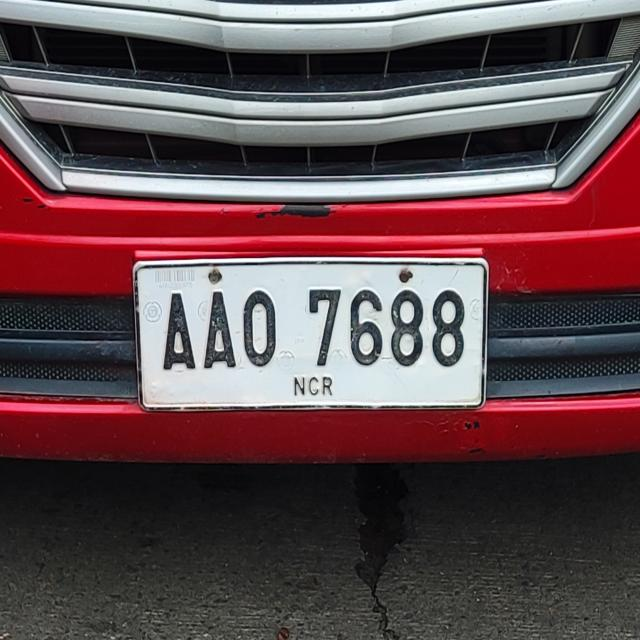plate: (131, 253, 491, 415)
